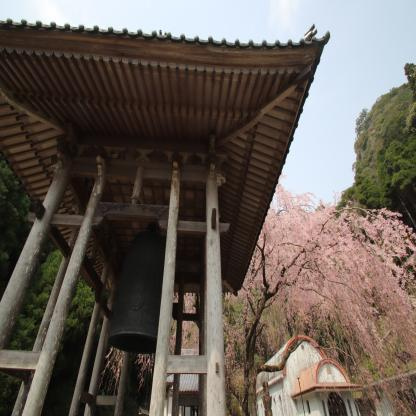ShidareZakura: (99, 169, 416, 416)
